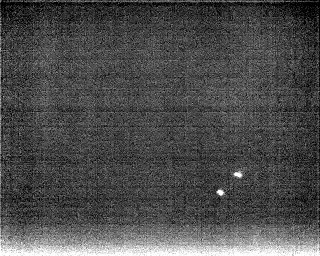BIRD: (232, 168, 245, 181)
